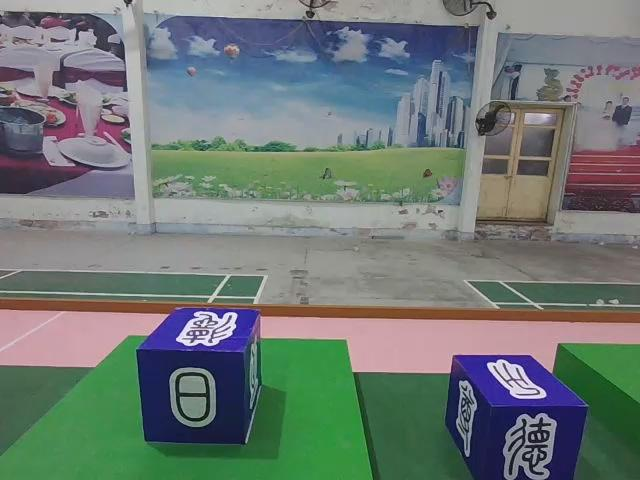R2 Fake Blue: (138, 305, 263, 448), (447, 356, 590, 480)
